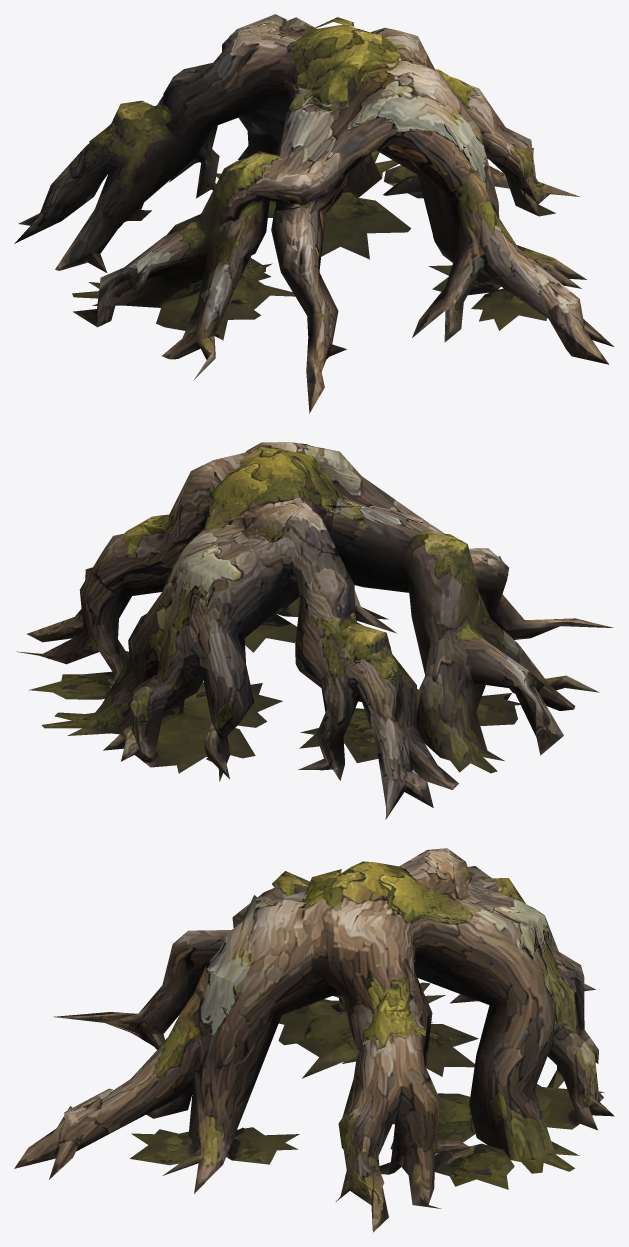
The model's file is act1_kit_v1_willow_roots.glb.
3 renders of one model, top to bottom at view 1: azimuth 30°, elevation 25°; view 2: azimuth 150°, elevation 25°; view 3: azimuth 270°, elevation 25°, orthographic. The views are drawn at different scales.
Visible parts, largest first — view 1: A04_6_willow_roots; view 2: A04_6_willow_roots; view 3: A04_6_willow_roots.
Part boxes in pixels (x1=…): A04_6_willow_roots: x1=14, y1=14, x2=613, y2=413; A04_6_willow_roots: x1=16, y1=442, x2=613, y2=819; A04_6_willow_roots: x1=14, y1=848, x2=614, y2=1232.
Bounding box in the file's own units: 0.9725 × 0.4368 × 0.9484.
1 material, 1 textured.
